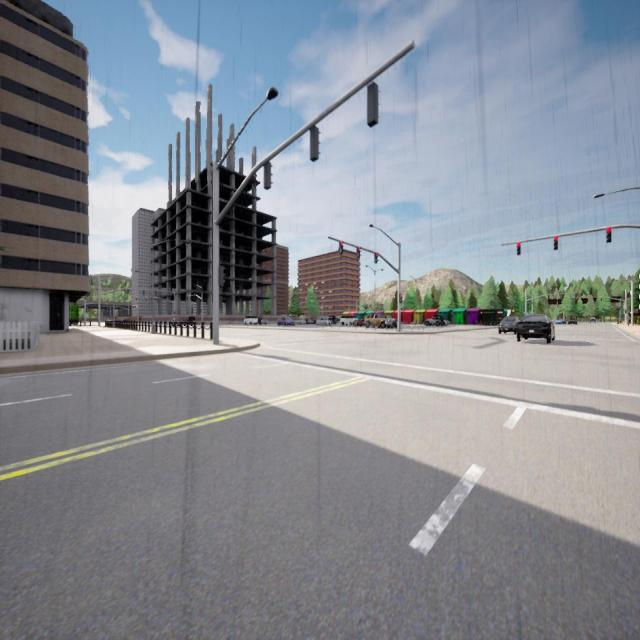Vehicle: (517, 314, 555, 342), (499, 316, 517, 334), (365, 314, 384, 328), (244, 315, 262, 325), (426, 316, 443, 326), (277, 314, 294, 324), (340, 316, 356, 325), (385, 319, 397, 328), (300, 316, 313, 324), (316, 318, 330, 325), (188, 317, 196, 324), (568, 318, 577, 324), (590, 317, 596, 323), (262, 319, 268, 324), (556, 320, 563, 324)
traffic_light: (368, 82, 378, 128), (311, 128, 321, 162), (264, 162, 273, 190), (220, 266, 224, 286), (554, 236, 558, 250), (607, 228, 611, 242), (339, 242, 343, 254), (374, 253, 378, 263), (517, 242, 520, 255), (356, 247, 359, 260), (400, 293, 402, 303), (135, 298, 137, 300), (174, 312, 176, 314), (586, 297, 588, 299), (576, 298, 578, 300), (625, 310, 626, 313), (601, 298, 602, 301), (146, 298, 146, 301)
